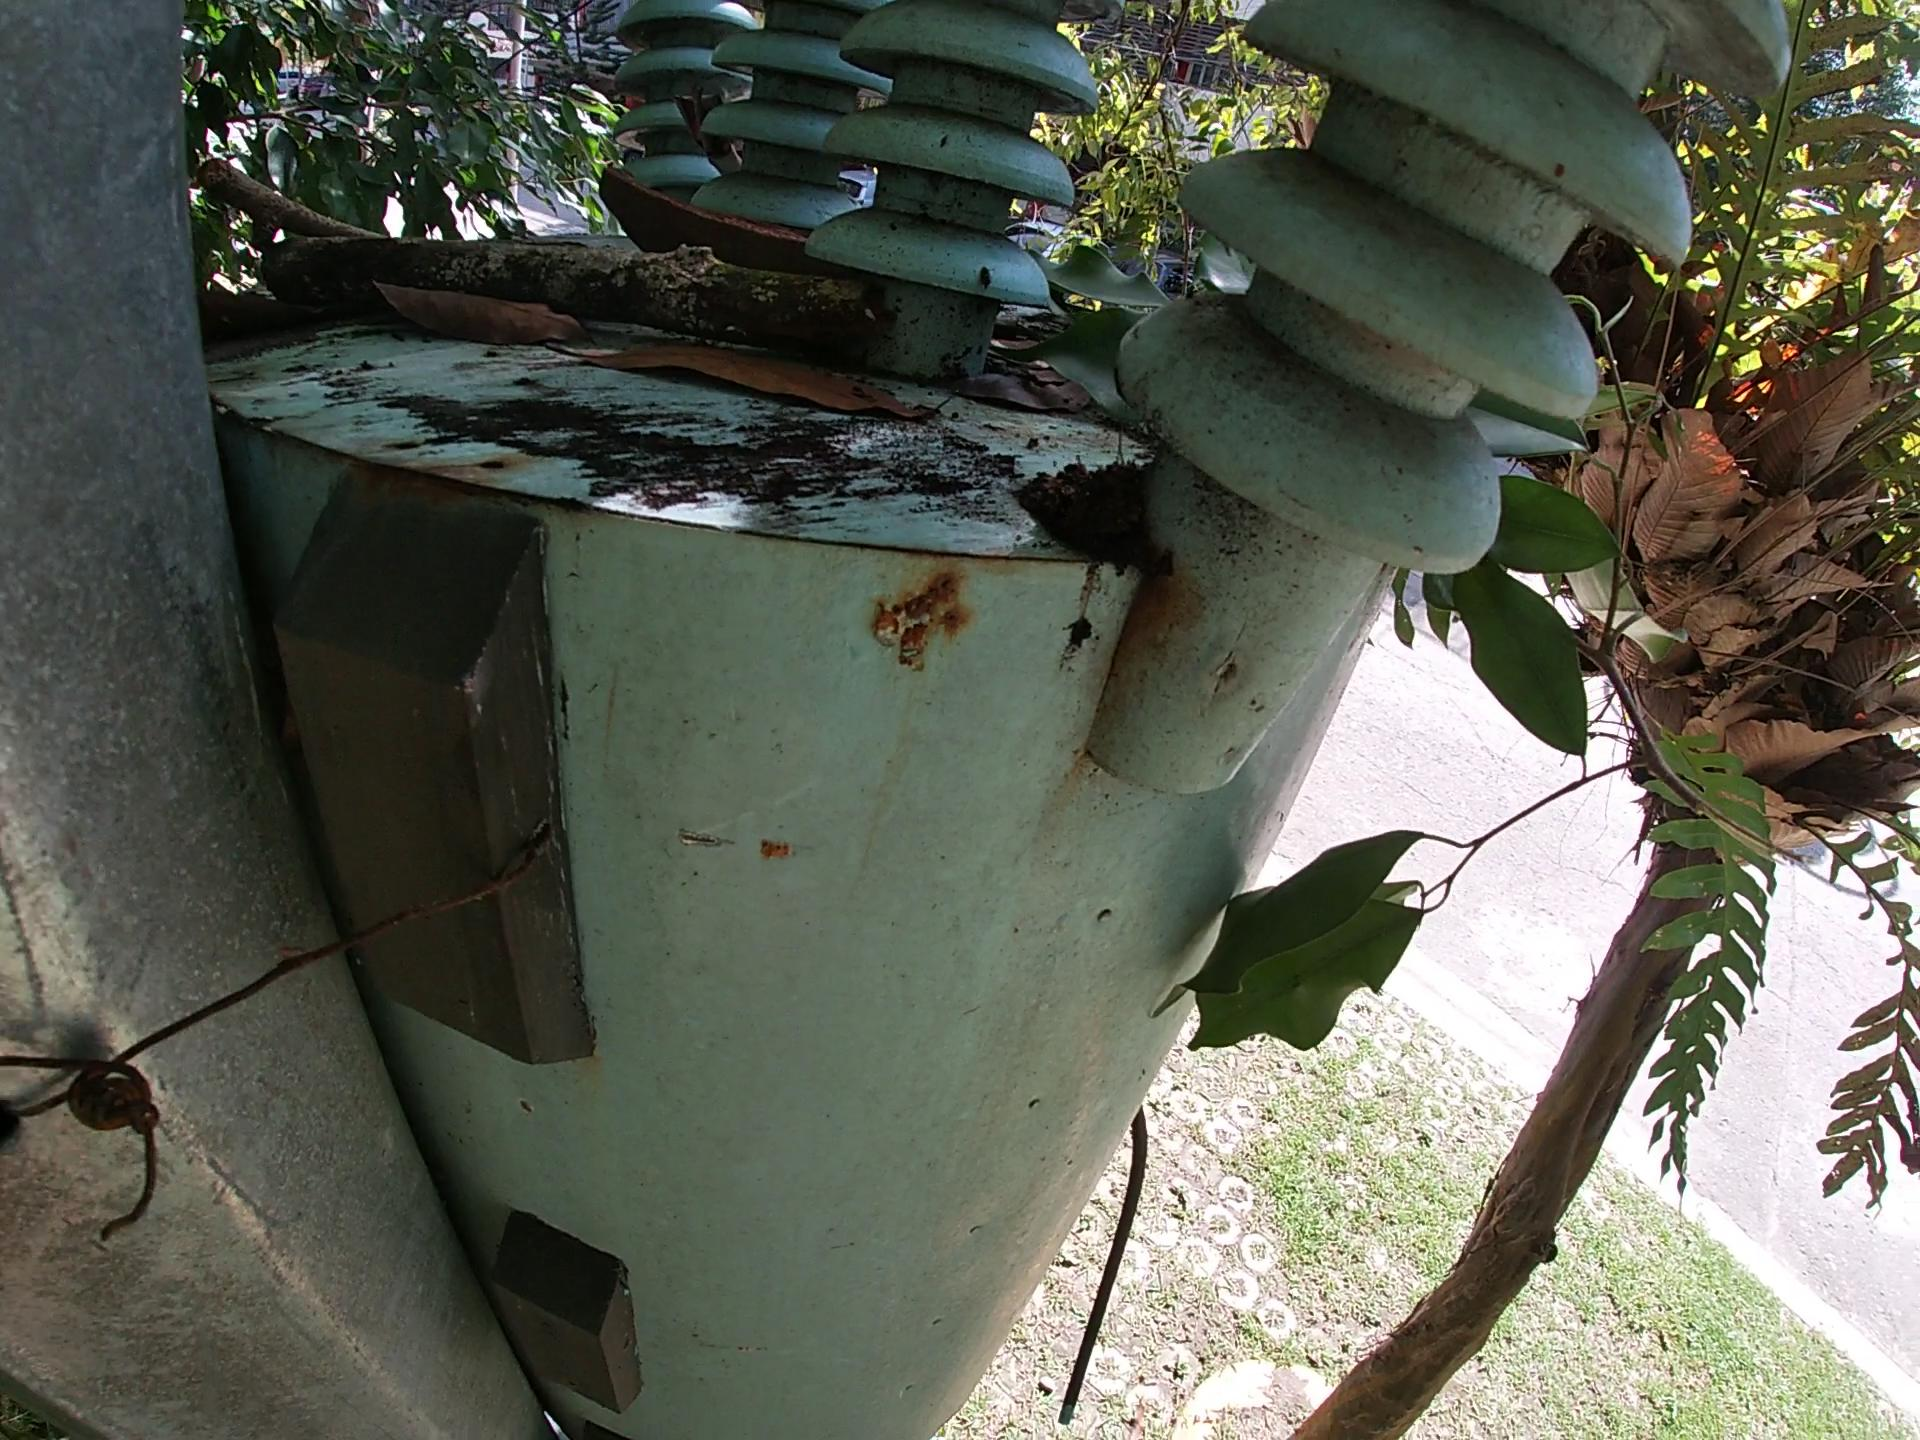branch with leaves: (1150, 141, 1920, 1277)
leaf: (358, 272, 937, 458)
mahogany fruit: (587, 154, 841, 271)
tree branch: (209, 160, 887, 405)
